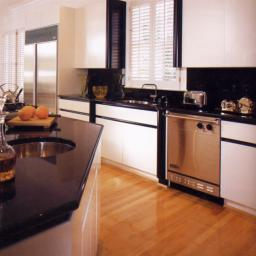Electrodomestico: (166, 112, 222, 203)
Lavaplatos: (4, 115, 82, 165), (115, 83, 168, 112)
